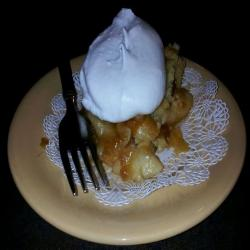apple_pie: (83, 62, 195, 187)
chantilly: (78, 14, 172, 124)
